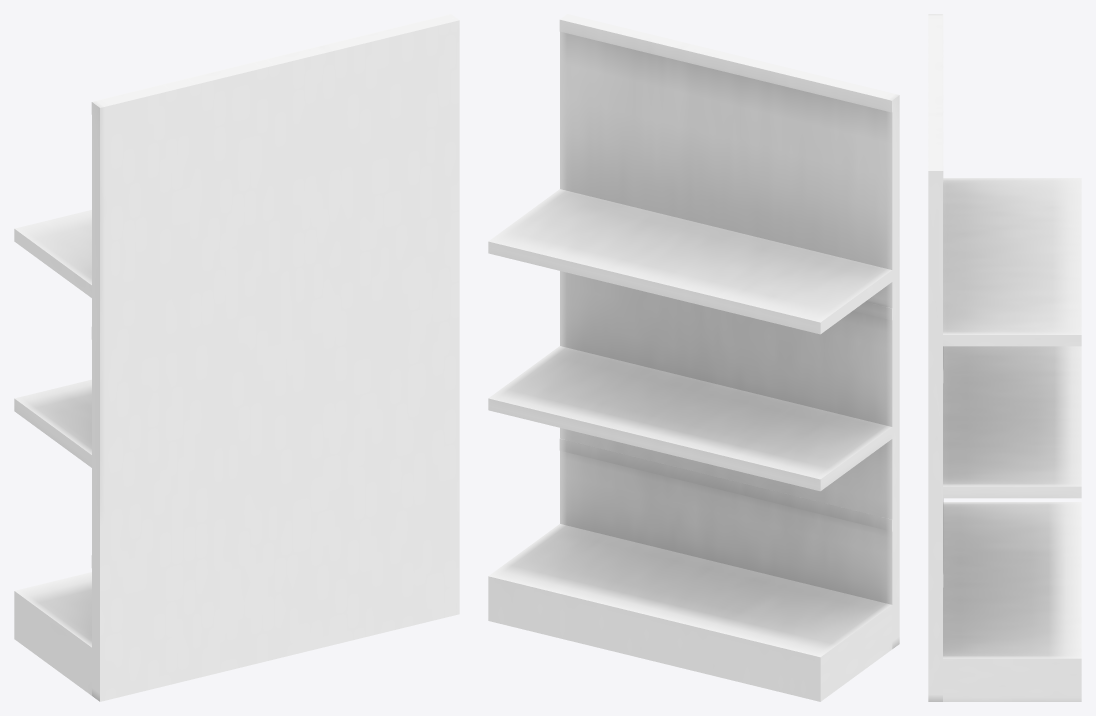
File: ShelfTwoB.glb
The picture shows the model from 3 angles, left to right: view 1: azimuth 30°, elevation 25°; view 2: azimuth 150°, elevation 25°; view 3: azimuth 270°, elevation 25°; orthographic projection. The views are drawn at different scales.
Visible parts, largest first — view 1: ShelfTwoB; view 2: ShelfTwoB; view 3: ShelfTwoB.
Part boxes in pixels (<box>): ShelfTwoB: <box>14,14,459,701</box>; ShelfTwoB: <box>488,14,899,701</box>; ShelfTwoB: <box>928,14,1081,701</box>.
Size of the model in its own units: 1.27 by 2 by 0.5231.
Materials: 1 (1 with a texture image).
